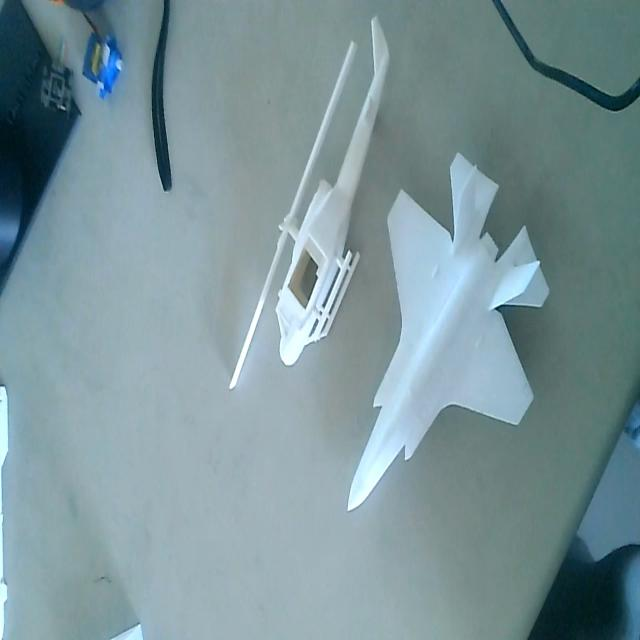Helicopter: (230, 10, 392, 387)
Jet: (347, 150, 550, 511)
